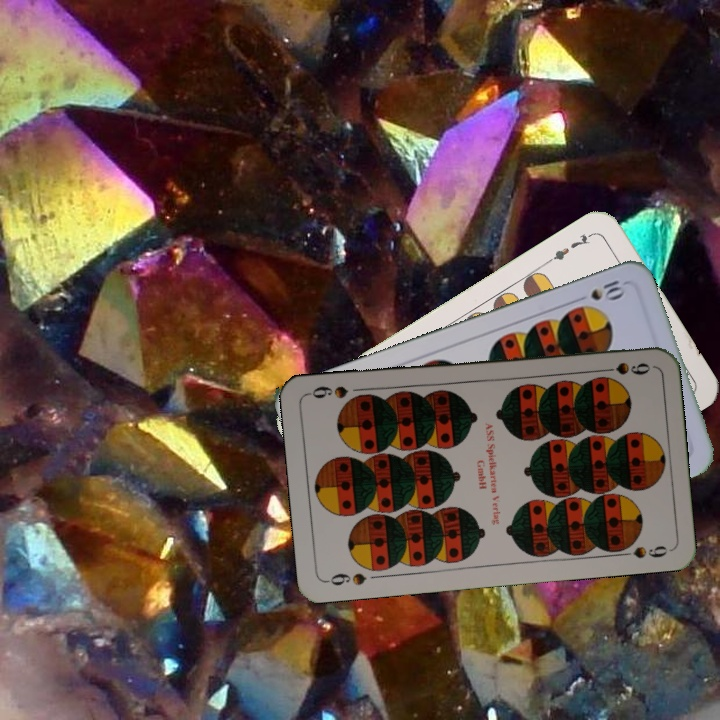E7: (543, 228, 597, 266)
S10: (586, 276, 629, 303)
S9: (594, 358, 653, 378), (322, 569, 369, 588)
